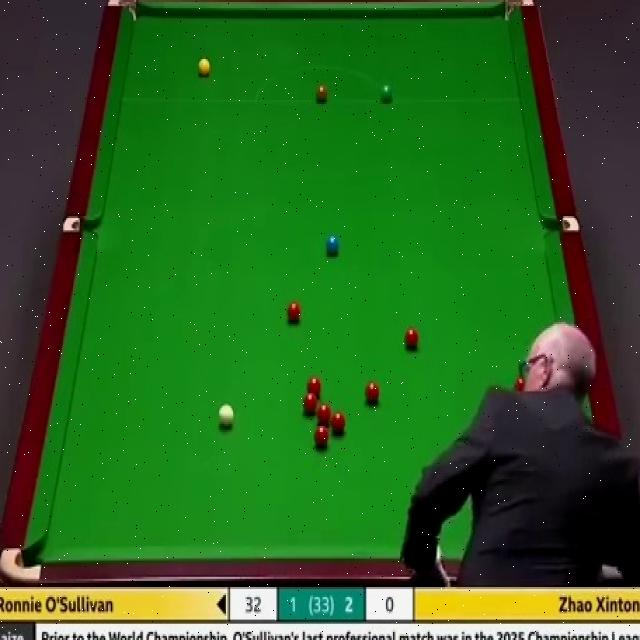blue-ball: (326, 235, 339, 258)
brown-ball: (316, 86, 328, 104)
green-ball: (381, 84, 392, 104)
red-ball: (286, 298, 302, 324), (314, 424, 330, 450), (405, 325, 420, 350), (316, 404, 332, 426), (332, 412, 346, 436), (366, 382, 380, 406), (302, 392, 318, 413), (306, 378, 322, 397), (514, 377, 526, 391)
white-ball: (216, 402, 234, 431)
yellow-ball: (197, 59, 212, 80)
